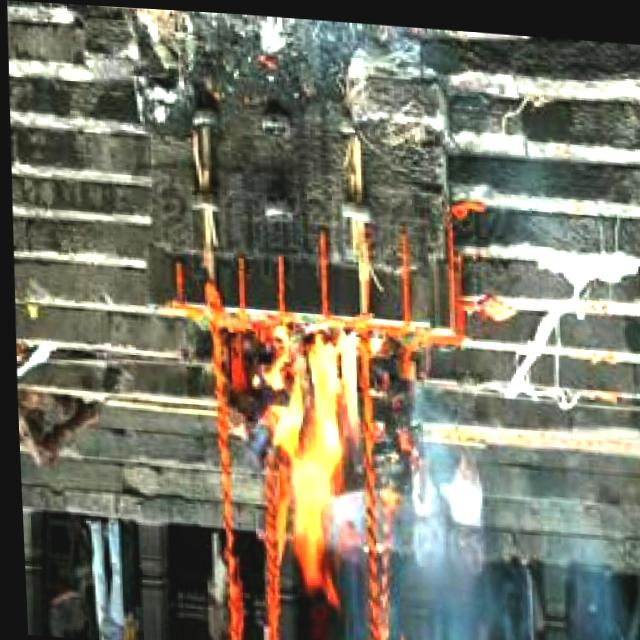helmet: (252, 315, 370, 578)
